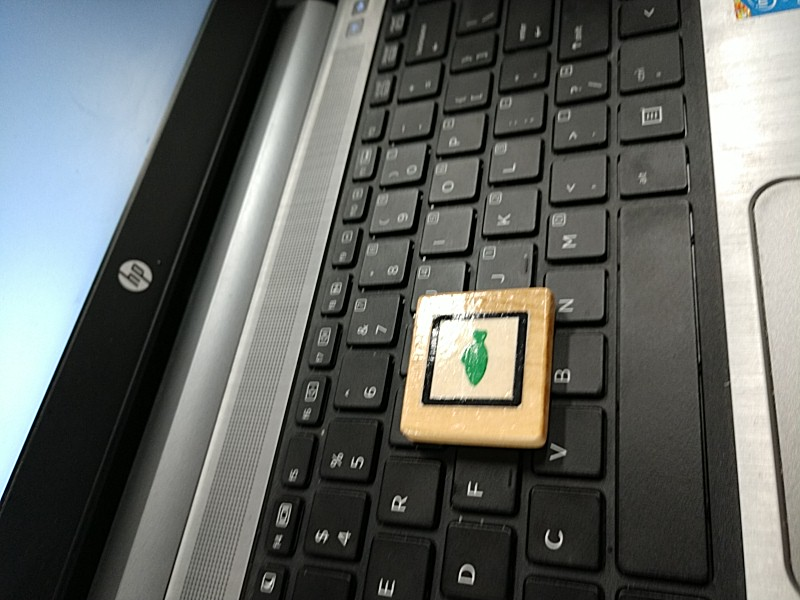Fish Tile: (422, 307, 528, 407)
